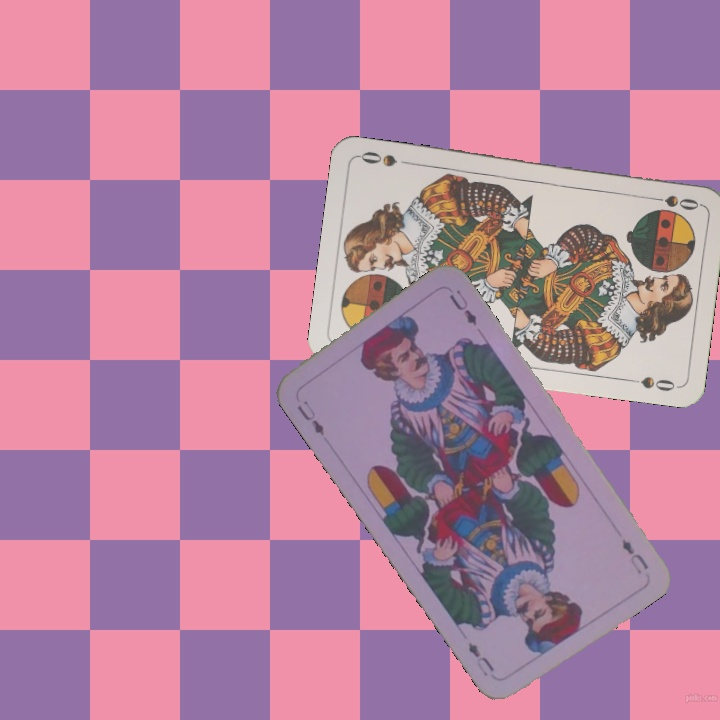EU: (293, 396, 327, 439), (617, 534, 651, 577)
SO: (643, 191, 702, 213)
